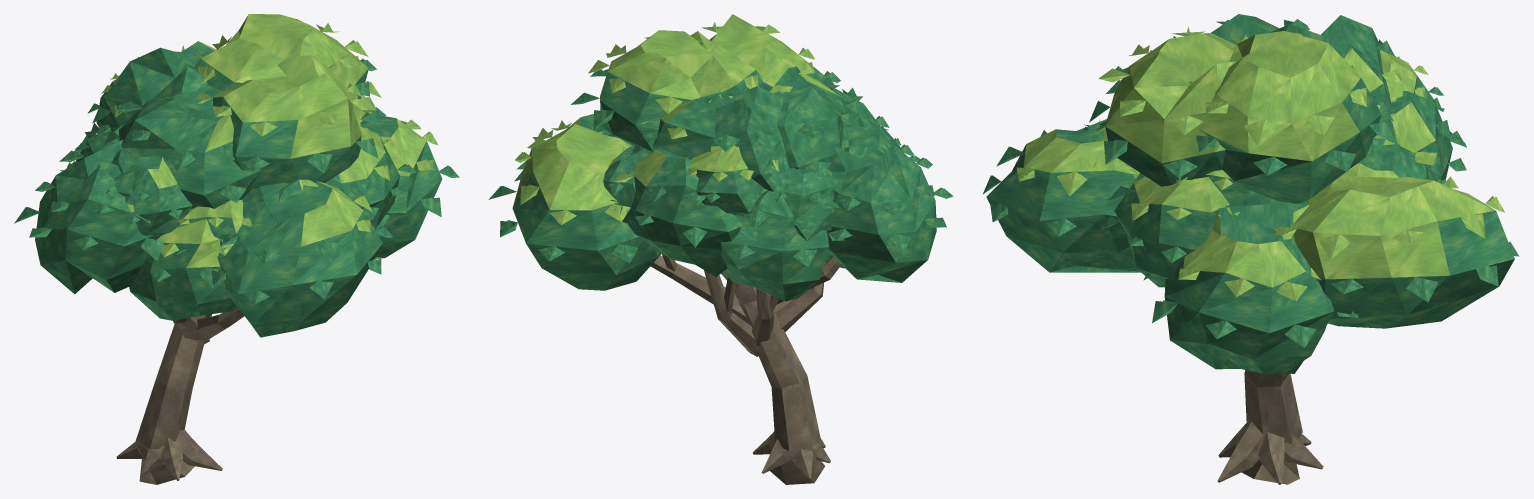
File: WindsweptOak.fbx
The picture shows the model from 3 angles, left to right: view 1: azimuth 30°, elevation 25°; view 2: azimuth 150°, elevation 25°; view 3: azimuth 270°, elevation 25°; orthographic projection. The views are drawn at different scales.
Parts seen in each view (by area): view 1: WindsweptOak; view 2: WindsweptOak; view 3: WindsweptOak.
Part boxes in pixels (bbox=[...]): WindsweptOak: bbox=[14, 14, 459, 484]; WindsweptOak: bbox=[488, 14, 953, 484]; WindsweptOak: bbox=[982, 14, 1519, 484].
Size of the model in its own units: 904 by 863 by 841.
Materials: 1 (1 with a texture image).
